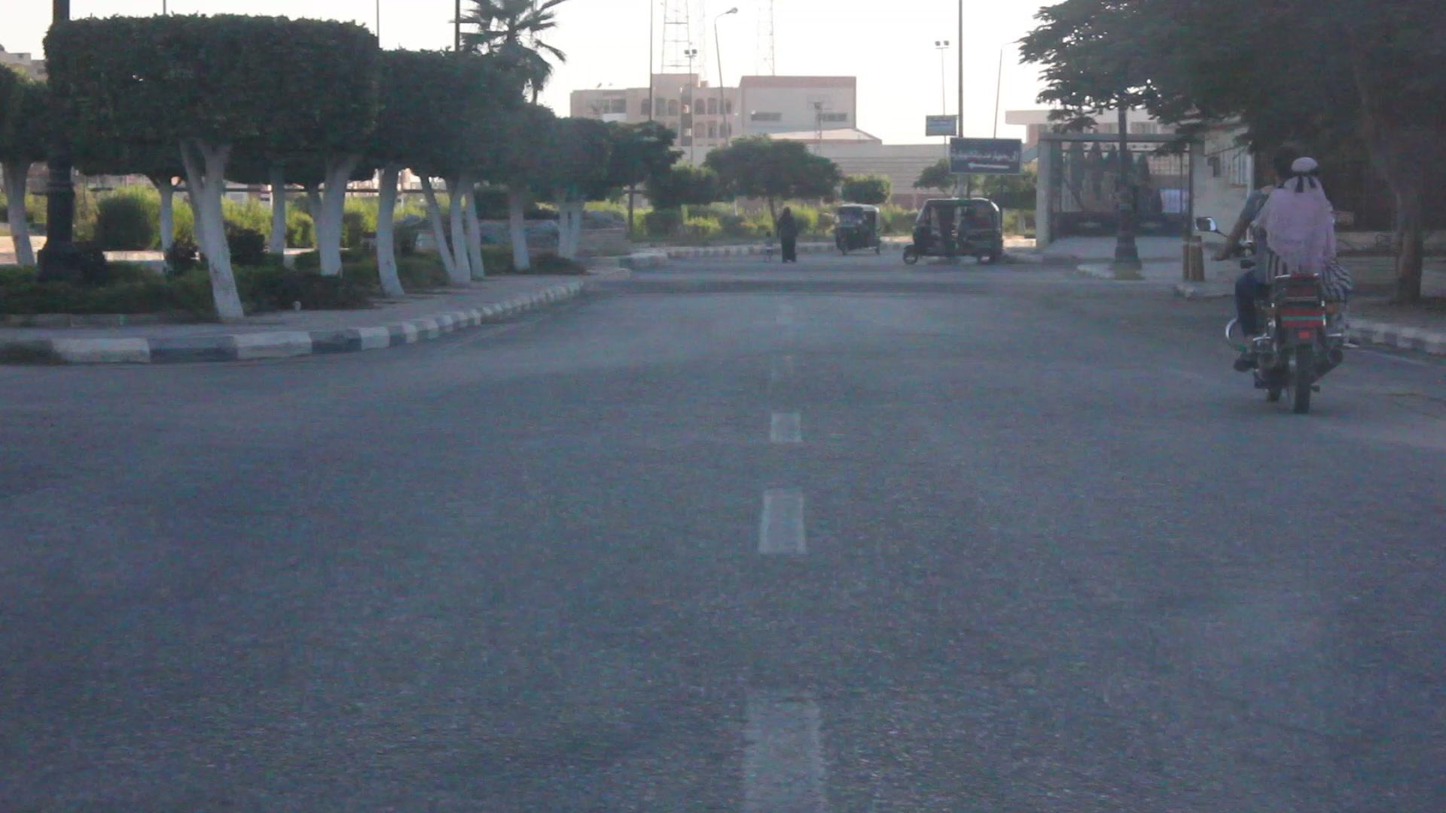Bump: (580, 262, 1020, 301)
